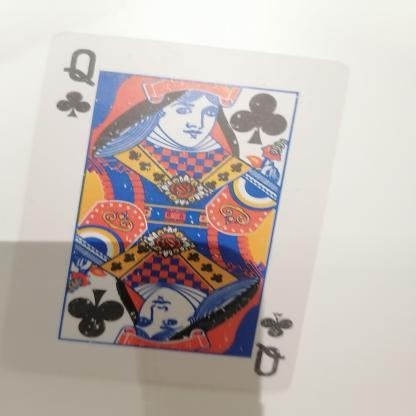QC: (42, 43, 116, 134), (252, 295, 298, 389)
